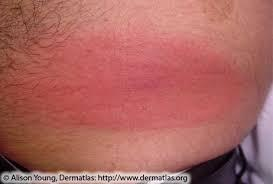Tick: (61, 30, 239, 129)
